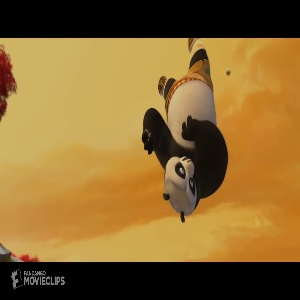po: (141, 38, 232, 225)
